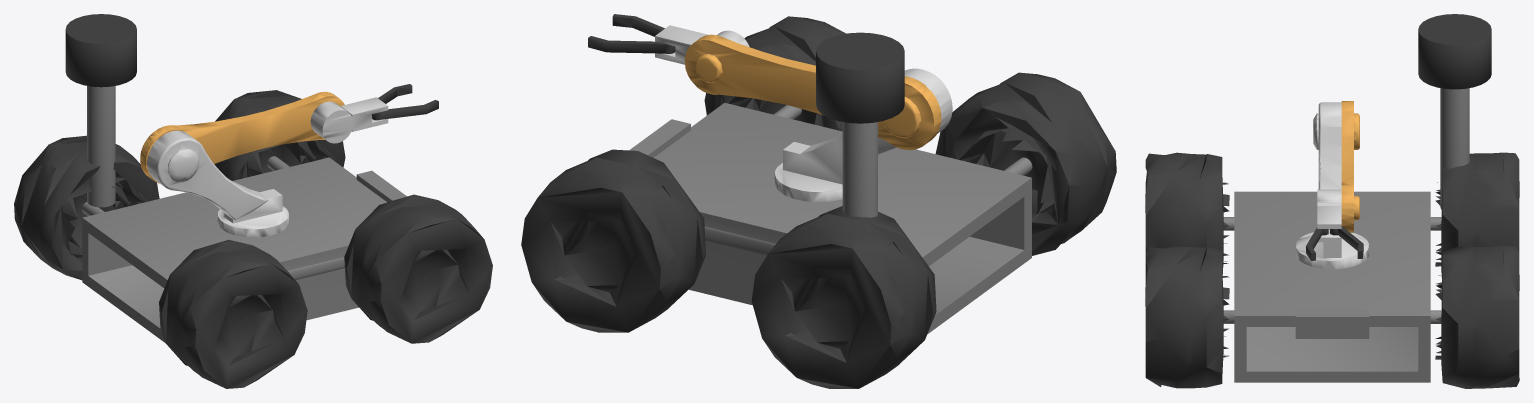
The model's file is robot_low.glb.
3 views of the same model, side by side, from view 1: azimuth 30°, elevation 25°; view 2: azimuth 150°, elevation 25°; view 3: azimuth 270°, elevation 25° (orthographic). The views are drawn at different scales.
Parts seen in each view (by area): view 1: visual:chassis_link:0, visual:wheel2:0, visual:wheel1:0, visual:wheel4:0, visual:m_link1:0, visual:m_link2:0, visual:lidar_link:0, visual:wheel3:0, visual:lidar_link:1, visual:m_link3:0, visual:camera_link:0, visual:grip1:0; view 2: visual:chassis_link:0, visual:wheel3:0, visual:wheel4:0, visual:wheel2:0, visual:m_link2:0, visual:lidar_link:0, visual:m_link1:0, visual:wheel1:0, visual:lidar_link:1, visual:m_link3:0, visual:camera_link:0, visual:grip2:0 (+1 smaller); view 3: visual:chassis_link:0, visual:wheel3:0, visual:wheel1:0, visual:wheel2:0, visual:wheel4:0, visual:lidar_link:0, visual:m_link1:0, visual:lidar_link:1, visual:camera_link:0, visual:m_link2:0, visual:m_link3:0, visual:grip2:0 (+1 smaller).
Boxes of the visible parts, bbox=[...] form: visual:chassis_link:0: bbox=[82, 156, 386, 342]; visual:wheel2:0: bbox=[159, 239, 307, 388]; visual:wheel1:0: bbox=[344, 194, 492, 343]; visual:wheel4:0: bbox=[14, 135, 159, 280]; visual:m_link1:0: bbox=[147, 130, 288, 237]; visual:m_link2:0: bbox=[140, 91, 344, 183]; visual:lidar_link:0: bbox=[65, 14, 136, 87]; visual:wheel3:0: bbox=[214, 90, 345, 180]; visual:lidar_link:1: bbox=[87, 86, 115, 207]; visual:m_link3:0: bbox=[310, 97, 388, 143]; visual:camera_link:0: bbox=[356, 170, 406, 202]; visual:grip1:0: bbox=[372, 100, 438, 120]; visual:chassis_link:0: bbox=[599, 102, 1032, 334]; visual:wheel3:0: bbox=[521, 149, 705, 332]; visual:wheel4:0: bbox=[751, 206, 936, 388]; visual:wheel2:0: bbox=[935, 72, 1116, 255]; visual:m_link2:0: bbox=[684, 34, 941, 150]; visual:lidar_link:0: bbox=[816, 32, 904, 123]; visual:m_link1:0: bbox=[774, 68, 952, 201]; visual:wheel1:0: bbox=[704, 16, 845, 131]; visual:lidar_link:1: bbox=[842, 122, 877, 217]; visual:m_link3:0: bbox=[655, 25, 749, 64]; visual:camera_link:0: bbox=[629, 119, 690, 157]; visual:grip2:0: bbox=[588, 36, 675, 53]; visual:chassis_link:0: bbox=[1223, 191, 1441, 382]; visual:wheel3:0: bbox=[1435, 245, 1519, 388]; visual:wheel1:0: bbox=[1145, 246, 1229, 388]; visual:wheel2:0: bbox=[1145, 152, 1229, 274]; visual:wheel4:0: bbox=[1435, 152, 1519, 280]; visual:lidar_link:0: bbox=[1418, 14, 1491, 89]; visual:m_link1:0: bbox=[1295, 102, 1369, 269]; visual:lidar_link:1: bbox=[1440, 88, 1469, 209]; visual:camera_link:0: bbox=[1295, 309, 1369, 338]; visual:m_link2:0: bbox=[1341, 101, 1359, 232]; visual:m_link3:0: bbox=[1317, 189, 1341, 242]; visual:grip2:0: bbox=[1330, 226, 1363, 258].
Bounding box in the file's own units: 0.3186 × 0.2334 × 0.3053.
